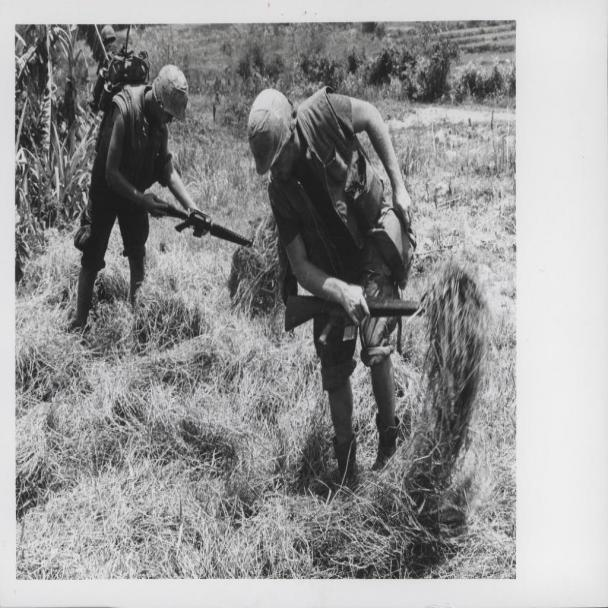Gun: (283, 288, 425, 342), (150, 190, 257, 258)
Hand: (387, 176, 424, 238), (333, 271, 371, 328)
